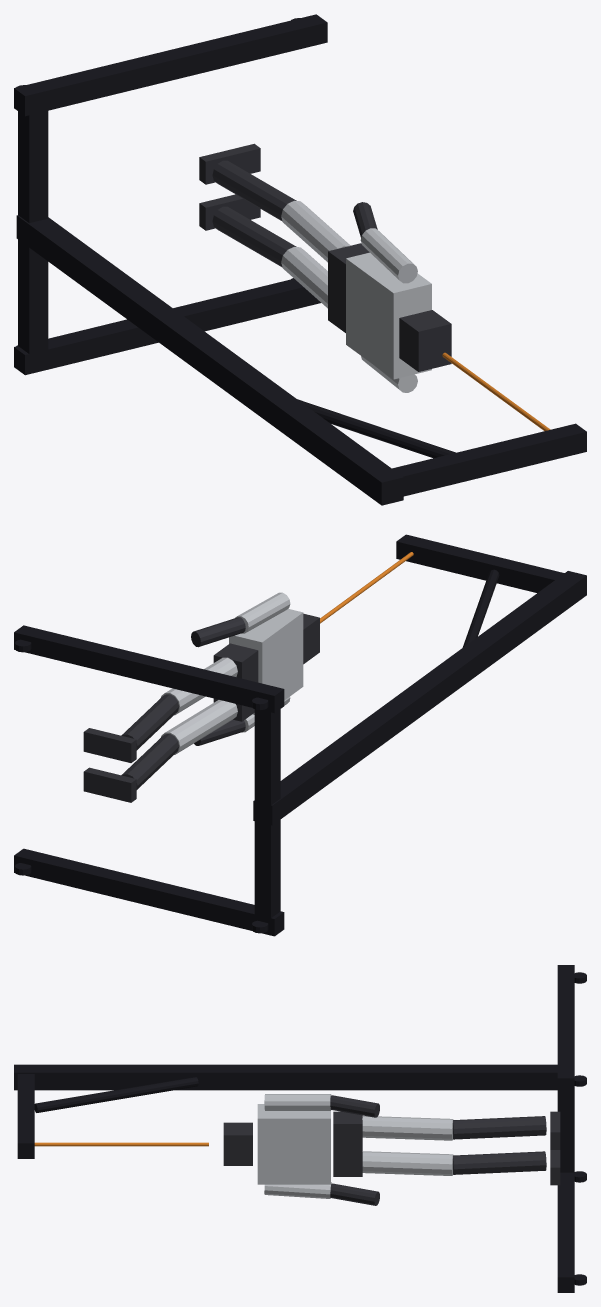
3 renders of one model, top to bottom at view 1: azimuth 30°, elevation 25°; view 2: azimuth 150°, elevation 25°; view 3: azimuth 270°, elevation 25°, orthographic. The views are drawn at different scales.
Visible parts, largest first — view 1: part_16, part_20, part_17, part_23, part_11, part_15, part_12, part_1, part_4, part_2, part_14, part_10 (+5 smaller); view 2: part_16, part_20, part_23, part_17, part_15, part_11, part_5, part_0, part_3, part_1, part_4, part_10 (+7 smaller); view 3: part_16, part_11, part_20, part_23, part_5, part_2, part_10, part_1, part_4, part_14, part_15, part_17 (+7 smaller).
Boxes of the visible parts, box(x1,y1,x2,y2) form: part_16: box(16, 215, 403, 505); part_20: box(14, 14, 327, 116); part_17: box(18, 82, 48, 373); part_23: box(14, 278, 320, 375); part_11: box(346, 252, 431, 379); part_15: box(392, 423, 586, 496); part_12: box(399, 310, 451, 371); part_1: box(212, 160, 296, 221); part_4: box(212, 206, 296, 267); part_2: box(281, 200, 350, 262); part_14: box(297, 399, 455, 458); part_10: box(328, 243, 369, 332); part_16: box(253, 571, 586, 825); part_20: box(14, 625, 284, 713); part_23: box(14, 848, 284, 936); part_17: box(254, 684, 280, 935); part_15: box(396, 534, 564, 592); part_11: box(229, 608, 303, 714); part_5: box(161, 700, 237, 754); part_0: box(83, 728, 136, 762); part_3: box(83, 767, 136, 802); part_1: box(121, 694, 179, 750); part_4: box(121, 734, 179, 789); part_10: box(213, 643, 258, 721); part_16: box(14, 1064, 557, 1090); part_11: box(257, 1104, 330, 1184); part_20: box(557, 965, 574, 1093); part_23: box(557, 1172, 574, 1292); part_5: box(362, 1151, 453, 1175); part_2: box(362, 1116, 453, 1140); part_10: box(333, 1111, 362, 1176); part_1: box(453, 1116, 546, 1139); part_4: box(453, 1151, 546, 1174); part_14: box(34, 1077, 198, 1112); part_15: box(17, 1074, 34, 1158); part_17: box(557, 966, 574, 1172).
Bounding box in the file's own units: 1.1 × 0.97 × 2.35.
